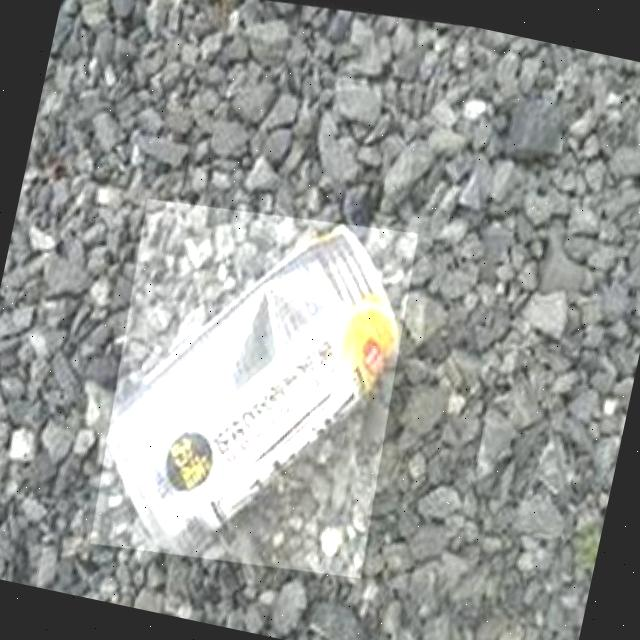trash: (74, 172, 430, 588)
